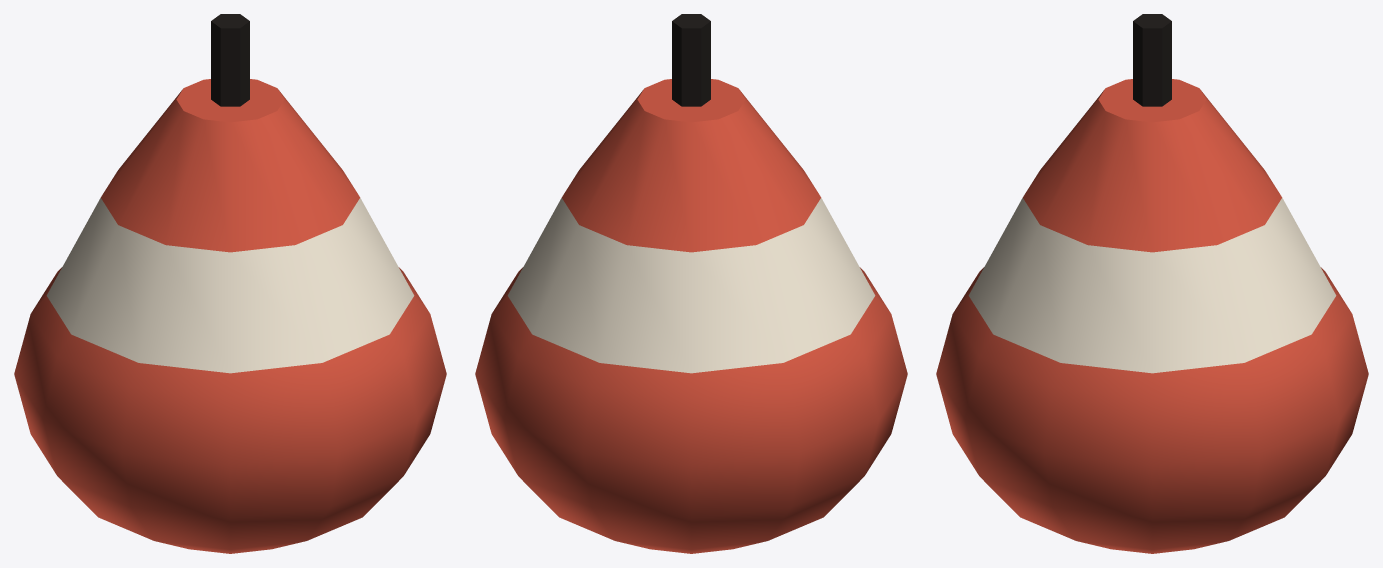
The model's file is Buoy.fbx.
The picture shows the model from 3 angles, left to right: view 1: azimuth 30°, elevation 25°; view 2: azimuth 150°, elevation 25°; view 3: azimuth 270°, elevation 25°; orthographic projection.
Visible parts, largest first — view 1: Buoy_EXP; view 2: Buoy_EXP; view 3: Buoy_EXP.
Boxes of the visible parts, x1,y1,x2,y2 form: Buoy_EXP: [14, 14, 446, 553]; Buoy_EXP: [475, 14, 907, 553]; Buoy_EXP: [936, 14, 1368, 553].
Bounding box in the file's own units: 0.4 × 0.52 × 0.4.
